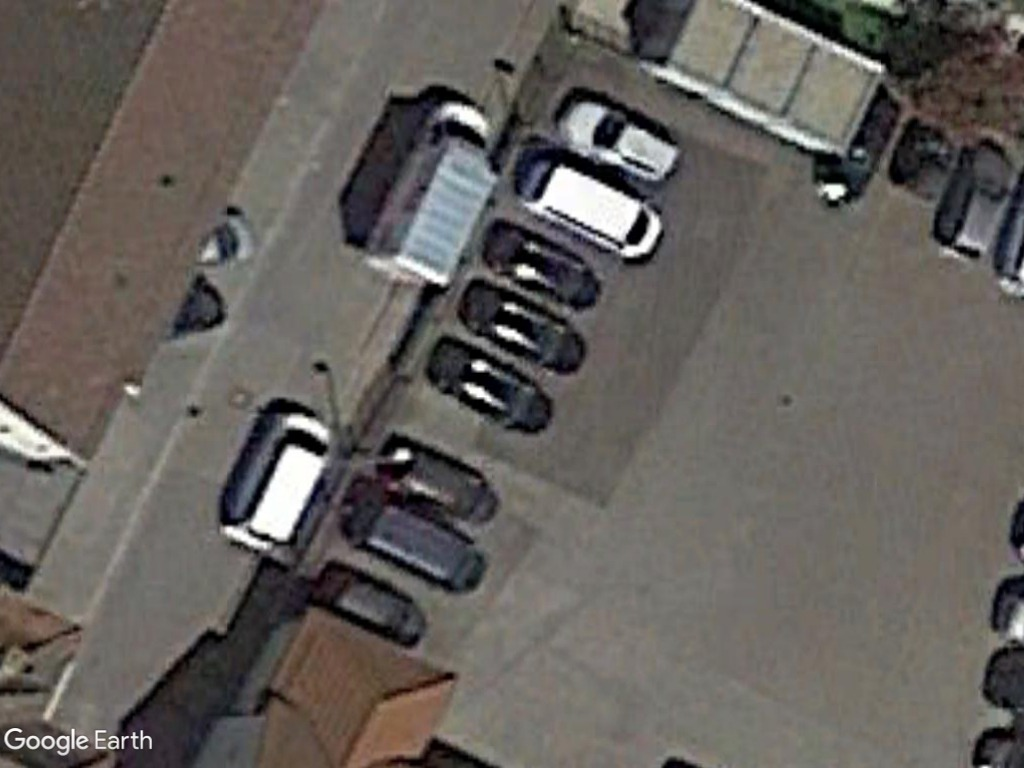car: (552, 93, 681, 188)
truck: (367, 102, 499, 287)
